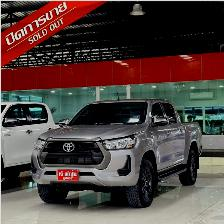NON-EV: (31, 94, 206, 209)
